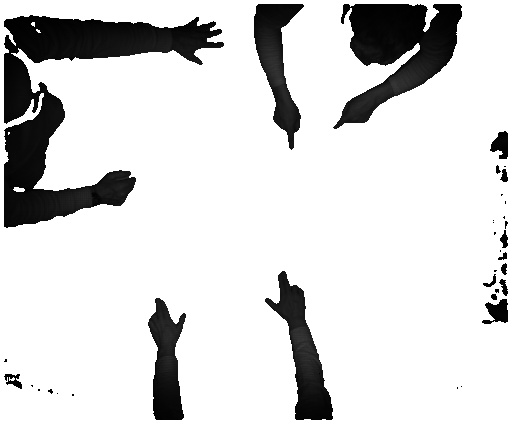fist: (97, 168, 135, 207)
hand: (264, 264, 311, 326), (144, 296, 191, 353), (175, 16, 223, 71), (328, 92, 382, 135), (272, 100, 303, 151)
